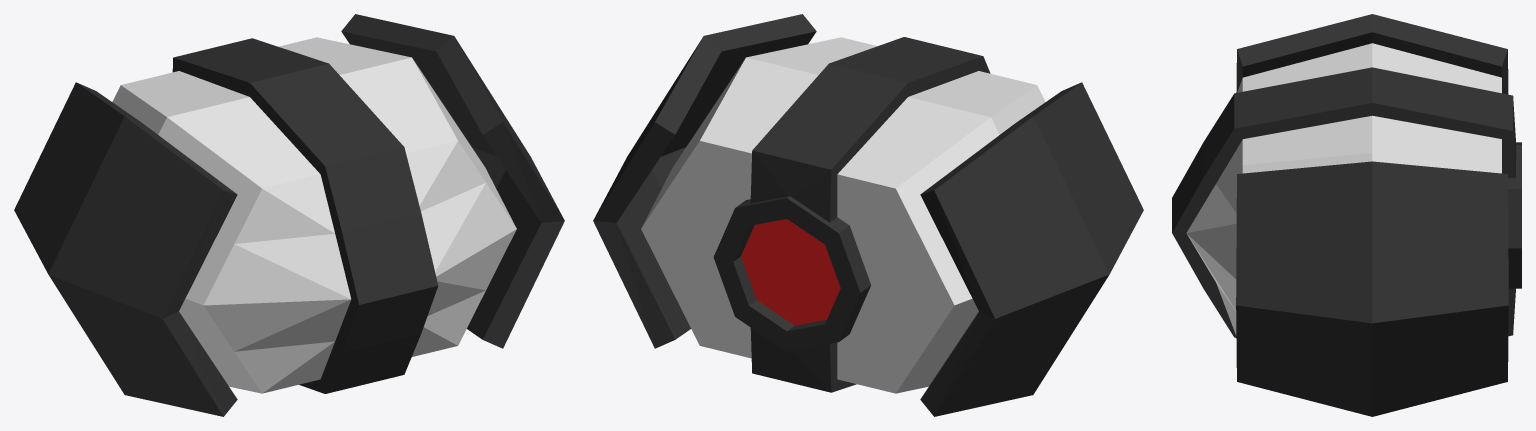
File: Laser.dae
3 renders of one model, left to right at view 1: azimuth 30°, elevation 25°; view 2: azimuth 150°, elevation 25°; view 3: azimuth 270°, elevation 25°, orthographic. The views are drawn at different scales.
Parts seen in each view (by area): view 1: Cube.019, Cube.020, Cube.021; view 2: Cube.020, Cube.019, Cube.021, Cylinder.014; view 3: Cube.020, Cube.019, Cube.021, Cylinder.014.
Boxes of the visible parts, left/top/right/bottom form: Cube.019: left=112, top=37, right=516, bottom=393; Cube.020: left=14, top=14, right=564, bottom=416; Cube.021: left=172, top=38, right=438, bottom=393; Cube.020: left=593, top=14, right=1143, bottom=416; Cube.019: left=641, top=37, right=1045, bottom=393; Cube.021: left=750, top=37, right=990, bottom=392; Cylinder.014: left=713, top=196, right=870, bottom=351; Cube.020: left=1236, top=14, right=1508, bottom=416; Cube.019: left=1186, top=43, right=1501, bottom=335; Cube.021: left=1172, top=67, right=1516, bottom=337; Cylinder.014: left=1508, top=142, right=1521, bottom=288.
Bounding box in the file's own units: 3.78 × 2.59 × 2.13.
